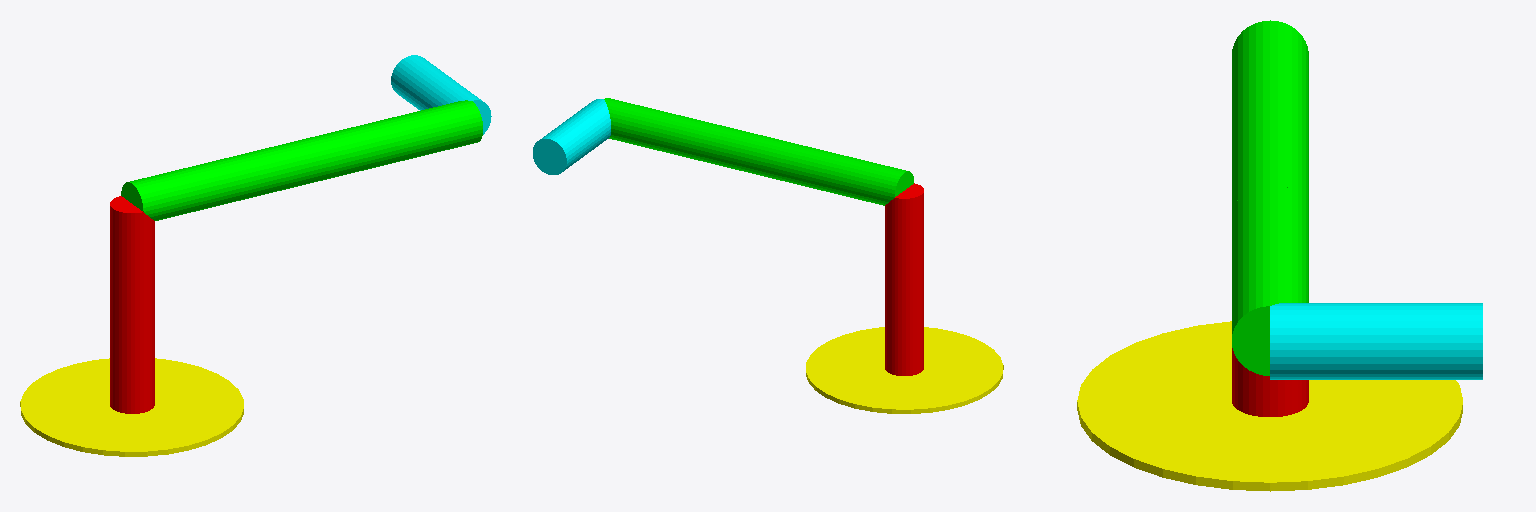
robot.urdf — simple_robot:
<robot name="simple_robot"> <!-- robot name- you decide -->
<!-- sequence : link-joint-link-joint-...-link... -->
<!-- units: meters for distance,rad in case of angles -->
<!-- first link called base_link -->
<link name= "base_link">
	<visual>
		<geometry>
			<cylinder length="0.01" radius="0.2"/>
		</geometry>
		<origin rpy="0 0 0" xyz="0 0 0"/> <!-- rpy: roll pitch yaw -> orientation xyz -> position --> 
		<material name= "base_color">
			<color rgba="1 1 0 1"/> 
		</material>
	</visual>

</link>


<!-- first joint-->
<joint name="joint1" type= "revolute"> <!-- types: revolute and prismatic -->
	<parent link="base_link"/>
	<child link="link1"/>
	<origin xyz ="0 0 0"/>
	<axis xyz="0 0 1"/>
	<limit effort="300" velocity="0.1" lower="-3.14159" upper="3.14159"/>
	<dynamics damping="50" friction="1"/>

</joint>


<!-- link1-->
<link name= "link1">
	<visual>
		<geometry>
			<cylinder length="0.4" radius="0.04"/>
		</geometry>
		<origin rpy="0 0 0" xyz="0 0 0.2"/> <!-- rpy: roll pitch yaw -> orientation xyz -> position --> 
		<material name= "link1_color">
			<color rgba="1 0 0 1"/> 
		</material>
	</visual>

</link>


<!-- second joint-->
<joint name="joint2" type= "revolute"> <!-- types: revolute and prismatic -->
	<parent link="link1"/>
	<child link="link2"/>
	<origin xyz ="0 0 0.4"/>
	<axis xyz="0 1 0"/>
	<limit effort="300" velocity="0.1" lower="-3.14159" upper="3.14159"/>
	<dynamics damping="50" friction="1"/>

</joint>


<!-- link2-->
<link name= "link2">
	<visual>
		<geometry>
			<cylinder length="0.4" radius="0.04"/>
		</geometry>
		<origin rpy="0 1.5707 0" xyz="0.2 0 0"/> <!-- rpy: roll pitch yaw -> orientation xyz -> position --> 
		<material name= "link2_color">
			<color rgba="0 1 0 1"/> 
		</material>
	</visual>

</link>


<!-- third joint-->
<joint name="joint3" type= "revolute"> <!-- types: revolute and prismatic -->
	<parent link="link2"/>
	<child link="link3"/>
	<origin xyz ="0.4 0 0"/>
	<axis xyz="0 1 0"/>
	<limit effort="300" velocity="0.1" lower="-3.14159" upper="3.14159"/>
	<dynamics damping="50" friction="1"/>

</joint>


<!-- link3-->
<link name= "link3">
	<visual>
		<geometry>
			<cylinder length="0.3" radius="0.04"/>
		</geometry>
		<origin rpy="0 1.5707 0" xyz="0.15 0 0"/> <!-- rpy: roll pitch yaw -> orientation xyz -> position --> 
		<material name= "link3_color">
			<color rgba="0 1 0 1"/> 
		</material>
	</visual>

</link>


<!-- fourth joint-->
<joint name="joint4" type= "revolute"> <!-- types: revolute and prismatic -->
	<parent link="link3"/>
	<child link="link4"/>
	<origin xyz ="0.3 0 0"/>
	<axis xyz="0 -1 0"/>
	<limit effort="300" velocity="0.1" lower="-3.14159" upper="3.14159"/>
	<dynamics damping="50" friction="1"/>

</joint>


<!-- link4-->
<link name= "link4">
	<visual>
		<geometry>
			<cylinder length="0.22" radius="0.04"/>
		</geometry>
		<origin rpy="1.5707 0 0" xyz="0.0 0.11 0"/> <!-- rpy: roll pitch yaw -> orientation xyz -> position --> 
		<material name= "link4_color">
			<color rgba="0 1 1 1"/> 
		</material>
	</visual>

</link>


<!-- fifth joint-->
<joint name="joint5" type= "fixed"> <!-- types: revolute and prismatic -->
	<parent link="link4"/>
	<child link="link5"/>
	<origin xyz ="0 0.22 0"/>
	<axis xyz="0 -1 0"/>
	<limit effort="300" velocity="0.1" lower="-3.14159" upper="3.14159"/>
	<dynamics damping="50" friction="1"/>
</joint>
<!-- link5-->
<link name= "link5">
	<visual>
		<geometry>
			<cylinder length="0.0" radius="0.0"/>
		</geometry>
		<origin rpy="0 0 0" xyz="0.0 0 0"/> <!-- rpy: roll pitch yaw -> orientation xyz -> position --> 
		<material name= "link5_color">
			<color rgba="0 1 0 1"/> 
		</material>
	</visual>

</link>




</robot>

--- Render facts (derived) ---
3 views of the same robot in one strip: view 1: azimuth 30°, elevation 25°; view 2: azimuth 150°, elevation 25°; view 3: azimuth 270°, elevation 25° (orthographic).
Robot: simple_robot — 6 links, 5 joints (4 revolute, 1 fixed); root link base_link; default pose: every joint at zero.
Links seen in each view (by area): view 1: base_link, link1, link2, link3, link4; view 2: base_link, link2, link1, link3, link4; view 3: base_link, link4, link2, link3, link1.
Link boxes in pixels (box(x1,y1,x2,y2)): base_link: box(20, 358, 243, 456); link1: box(110, 196, 154, 413); link2: box(121, 135, 337, 220); link3: box(323, 100, 482, 177); link4: box(391, 55, 491, 134); base_link: box(806, 327, 1003, 413); link2: box(723, 129, 913, 205); link1: box(885, 183, 923, 375); link3: box(604, 98, 734, 166); link4: box(533, 99, 610, 174); base_link: box(1077, 321, 1462, 491); link4: box(1270, 303, 1482, 379); link2: box(1232, 20, 1308, 213); link3: box(1232, 184, 1308, 375); link1: box(1232, 348, 1308, 416).
Size in the robot's own frame: 0.94 by 0.42 by 0.445 metres.
Geometry: primitives only (box / cylinder / sphere), no mesh files.